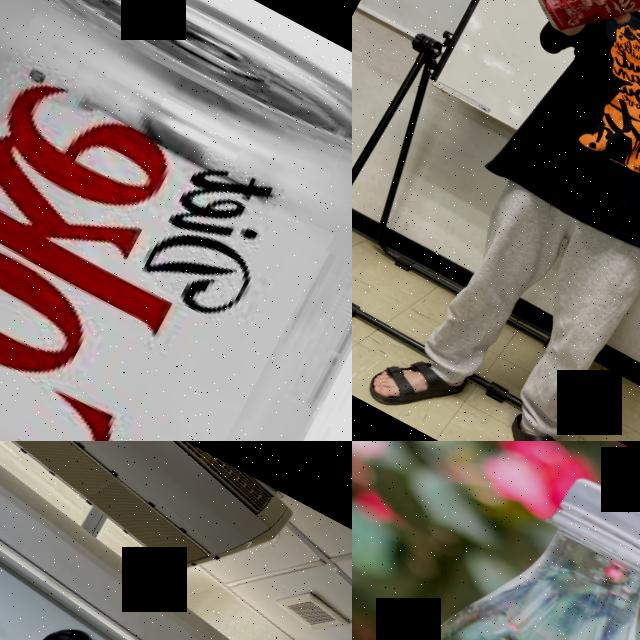bottle: (352, 441, 640, 640)
can: (0, 0, 352, 441), (525, 0, 640, 64)
